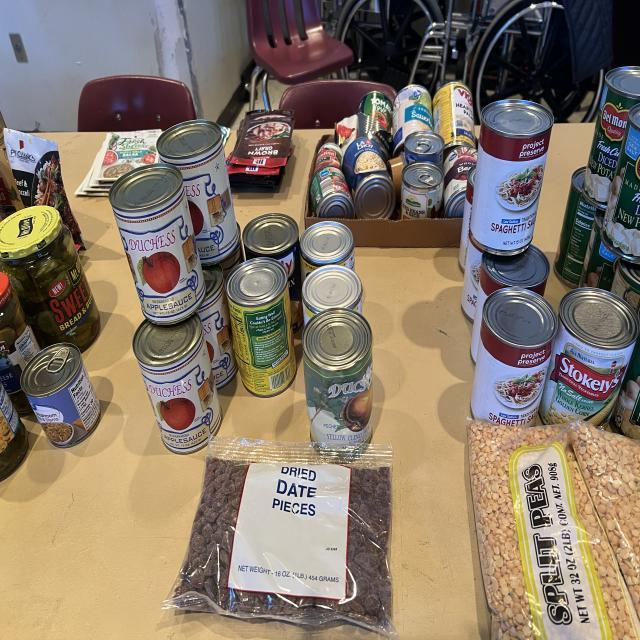Canned Food: (109, 163, 204, 325), (540, 287, 640, 427), (470, 100, 554, 255), (132, 315, 221, 453), (471, 288, 558, 427), (156, 120, 238, 265), (225, 257, 296, 397), (302, 308, 372, 445), (471, 245, 550, 360), (20, 343, 100, 447), (585, 67, 640, 203), (242, 213, 302, 332), (554, 167, 595, 288), (198, 265, 238, 388), (342, 137, 395, 220), (301, 265, 362, 325), (579, 210, 618, 292), (300, 222, 355, 280), (392, 85, 434, 155), (432, 82, 475, 148), (401, 162, 444, 220), (358, 92, 392, 160), (310, 167, 355, 218), (461, 240, 482, 322), (404, 130, 445, 167)
